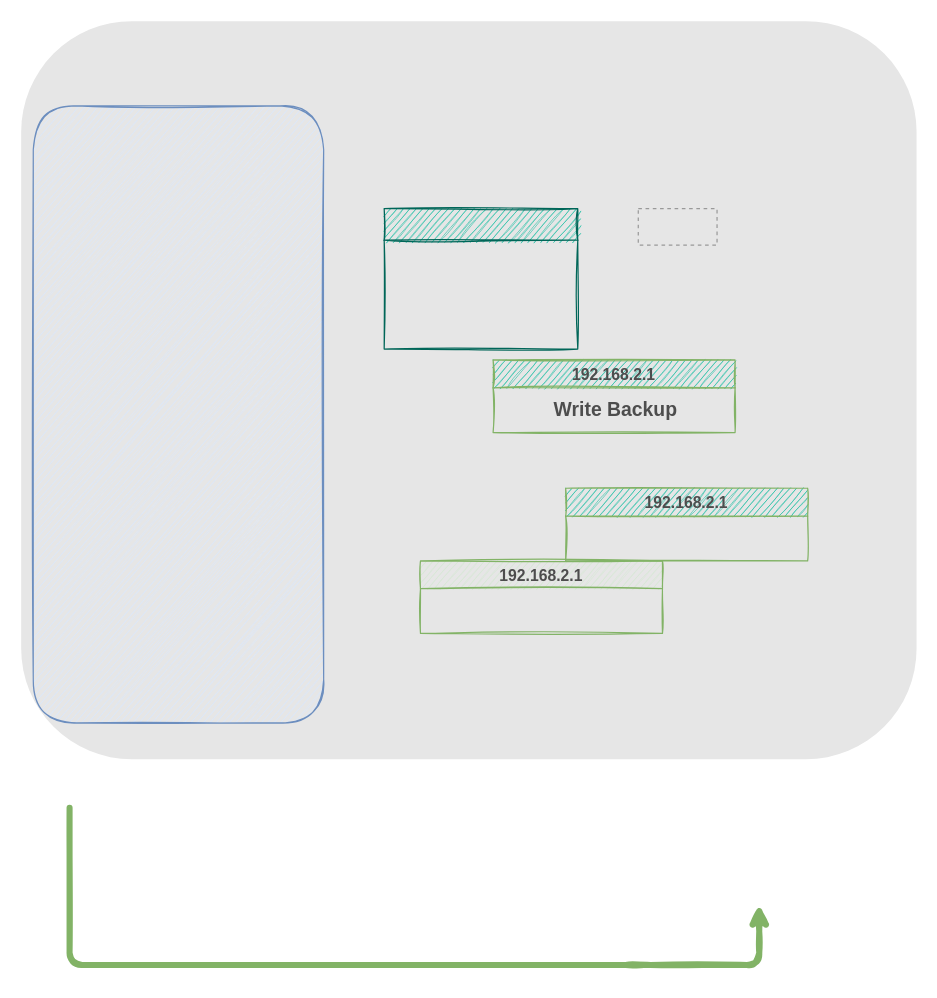
Image size: 937x998. Some labels were removed from this diagram. Grey dashed boxes stand in for pictures. The centre of each missing label's shape, as x and y in pixels:
"Docker Pi" goes at pixel 178 414.
"Kopia Docker" goes at pixel 480 278.
